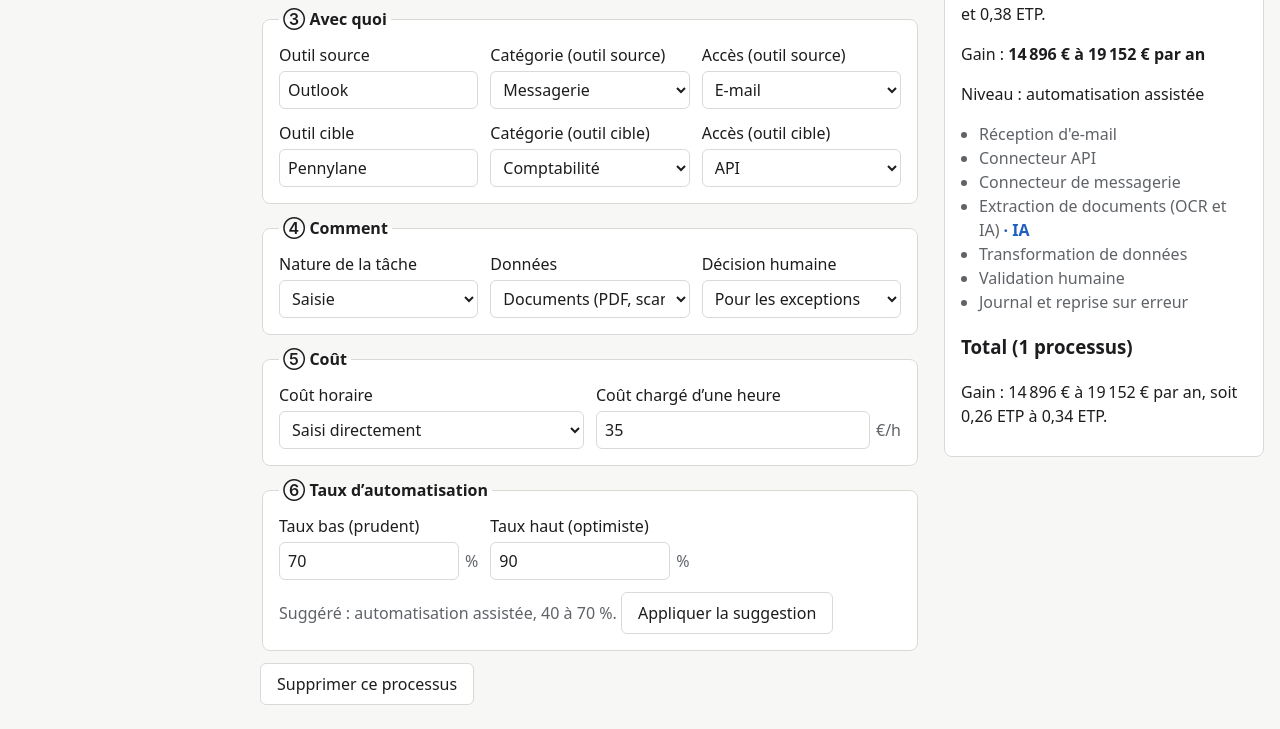
Entretien › garde des taux ajustés à la main, et réapplique la suggestion sur demande
The image size is (1280, 729).
(page scrolled)
Replace the text in the field labelled "Taux bas (prudent)" with "50" at (369,561), box [279,542,459,580]
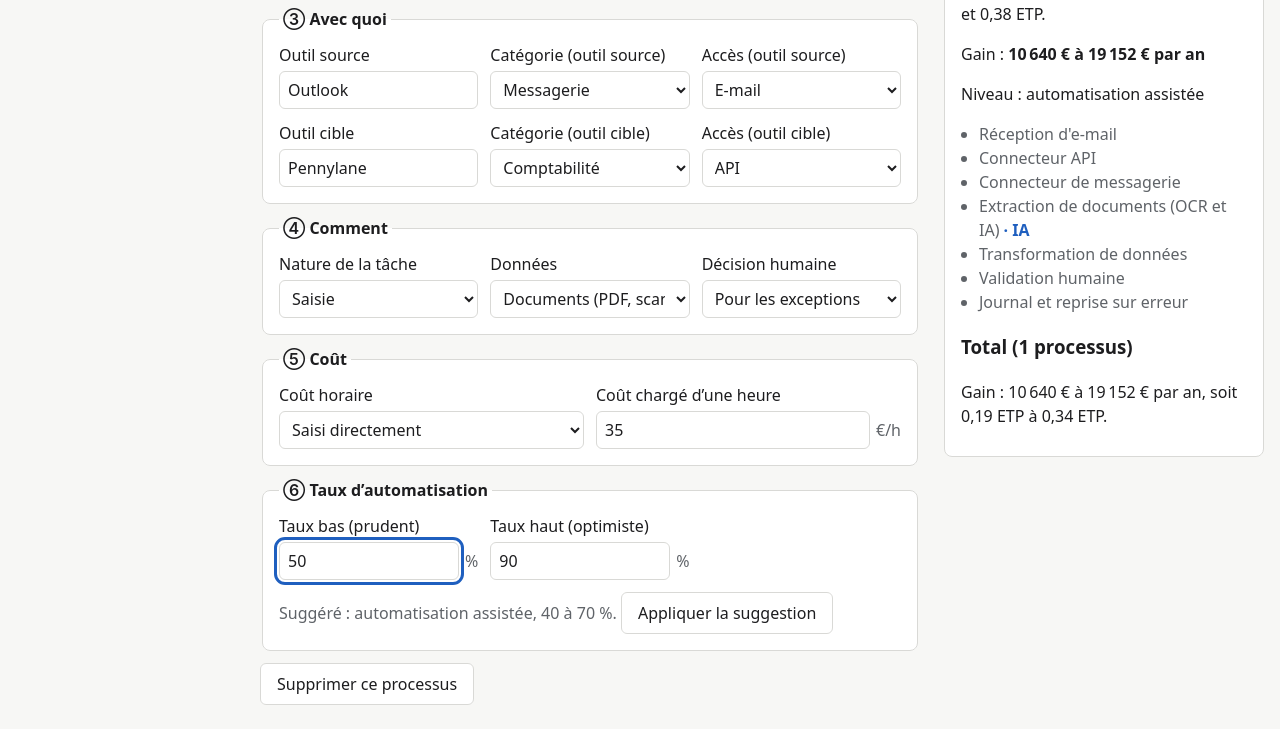
Replace the text in the field labelled "Taux haut (optimiste)" with "60" at (580,561), box [490,542,670,580]
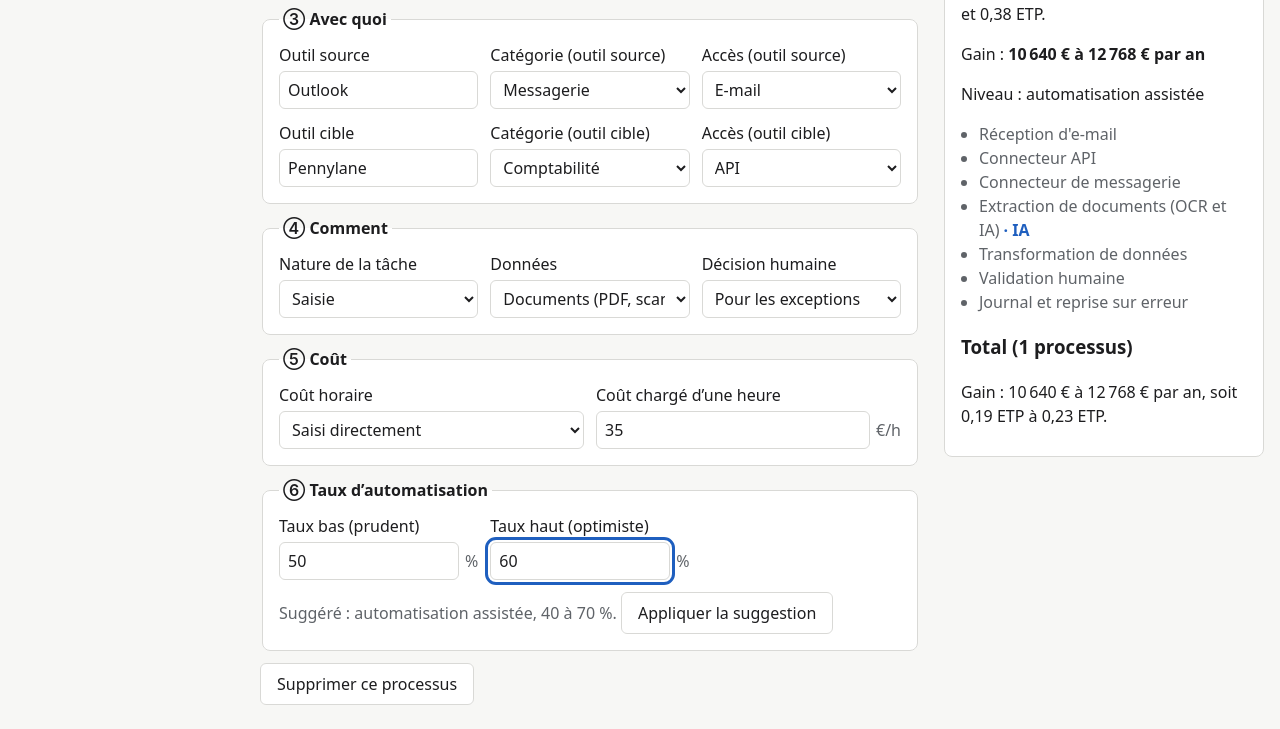
expect the text "Suggéré : automatisation assistée, 40 à 70 %" is shown: met, box [279,592,901,634]
Click the button "Appliquer la suggestion" at (727,613), box [621,592,833,634]
(page scrolled)
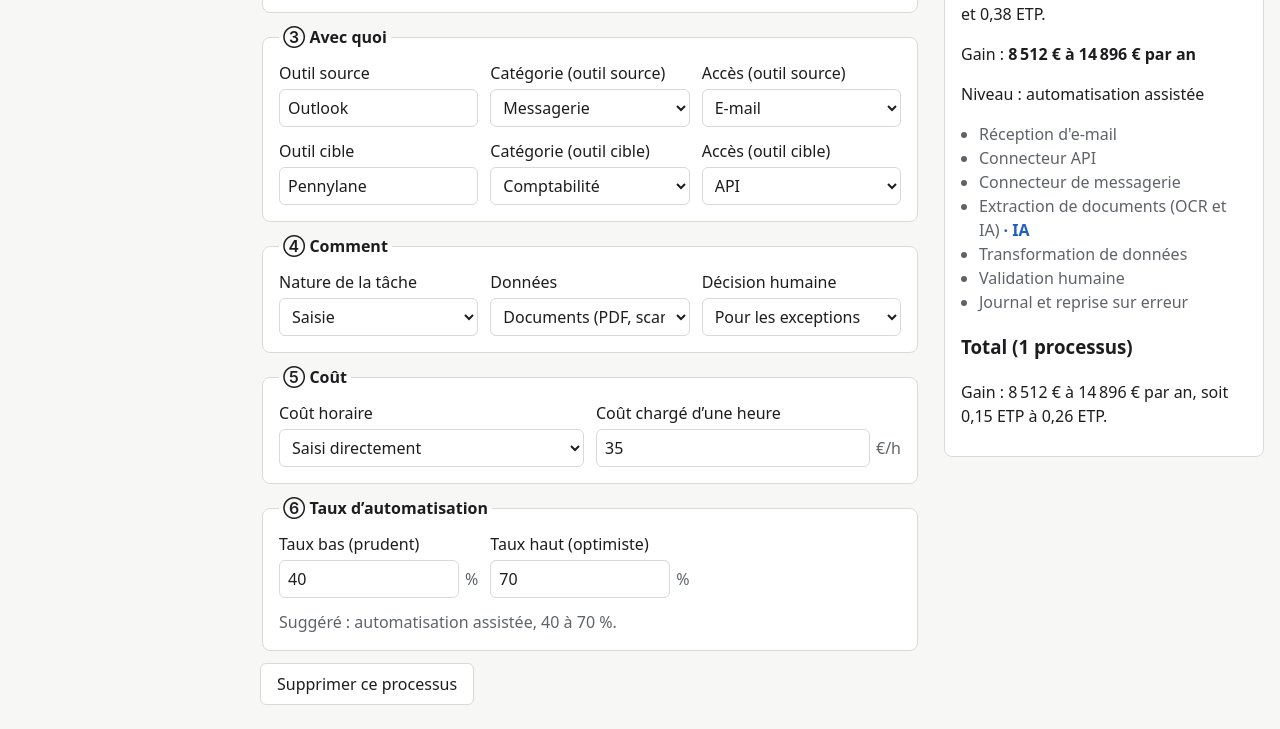
expect the field labelled "Taux bas (prudent)" holds "40": met, box [279,560,459,598]
expect the button "Appliquer la suggestion" is gone: met
